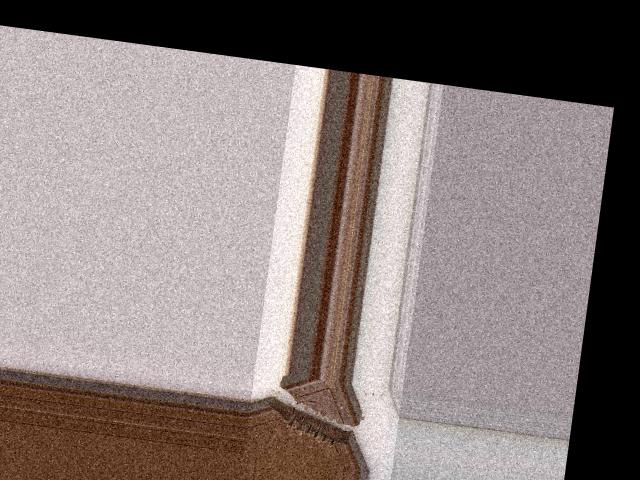chocolate: (244, 370, 381, 469)
